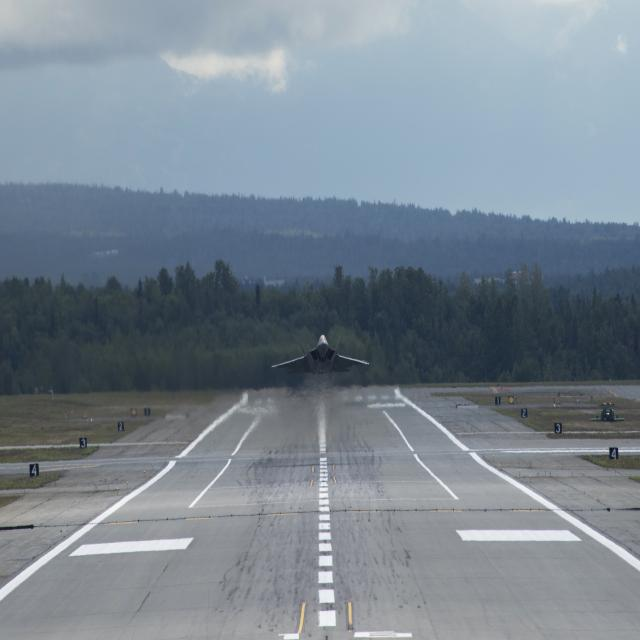MIL_Plane: (271, 334, 369, 375)
